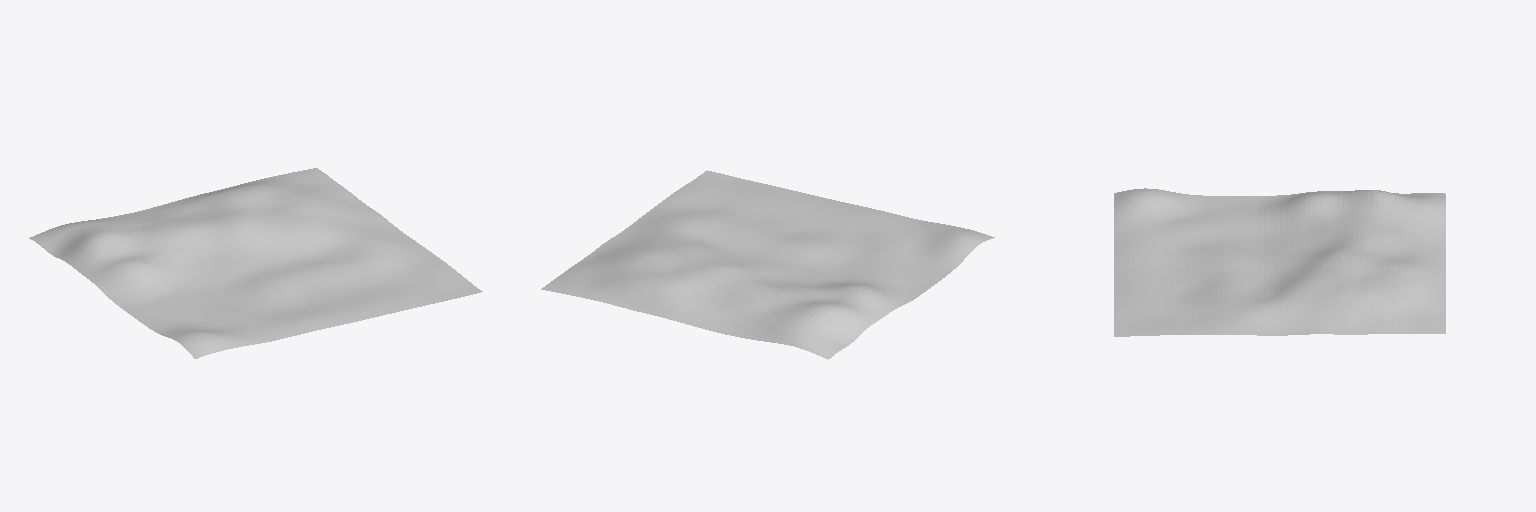
File: mud_ground.obj
3 renders of one model, left to right at view 1: azimuth 30°, elevation 25°; view 2: azimuth 150°, elevation 25°; view 3: azimuth 270°, elevation 25°, orthographic.
Parts seen in each view (by area): view 1: Plane001; view 2: Plane001; view 3: Plane001.
Boxes of the visible parts, x1=… form: Plane001: x1=29, y1=168, x2=482, y2=358; Plane001: x1=541, y1=170, x2=994, y2=359; Plane001: x1=1114, y1=188, x2=1445, y2=336.
Size of the model in its own units: 139 by 9.45 by 139.